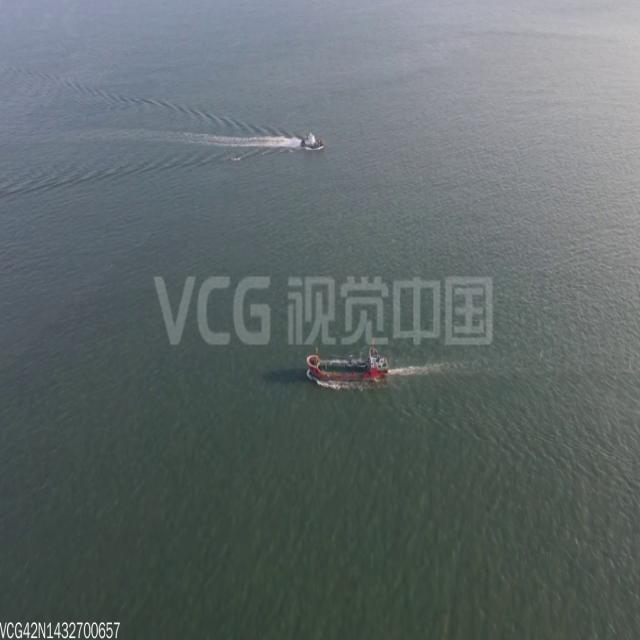cargoship: (308, 334, 390, 390), (298, 127, 326, 153)
